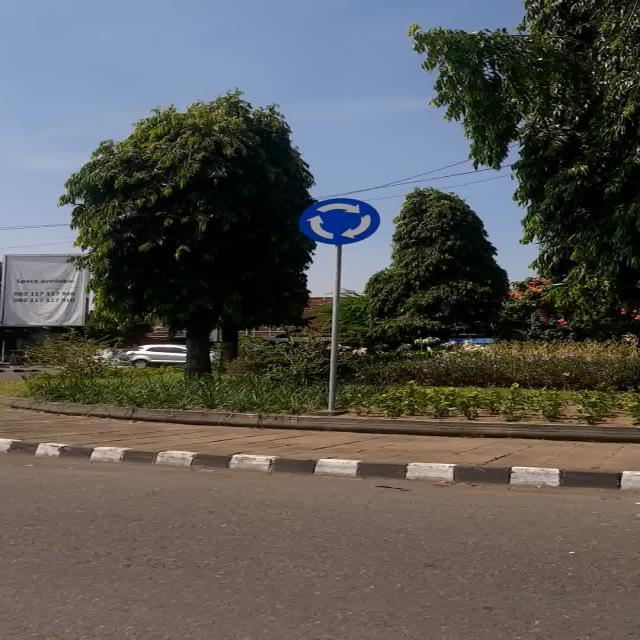Ikuti Bundaran: (298, 197, 382, 245)
